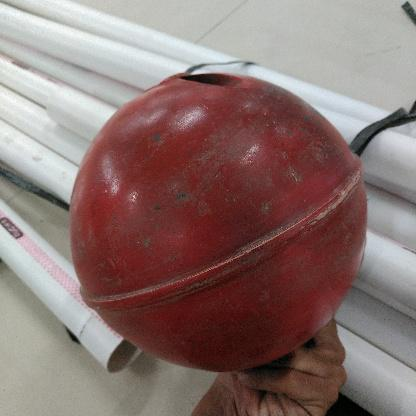red_buoy: (66, 66, 372, 379)
